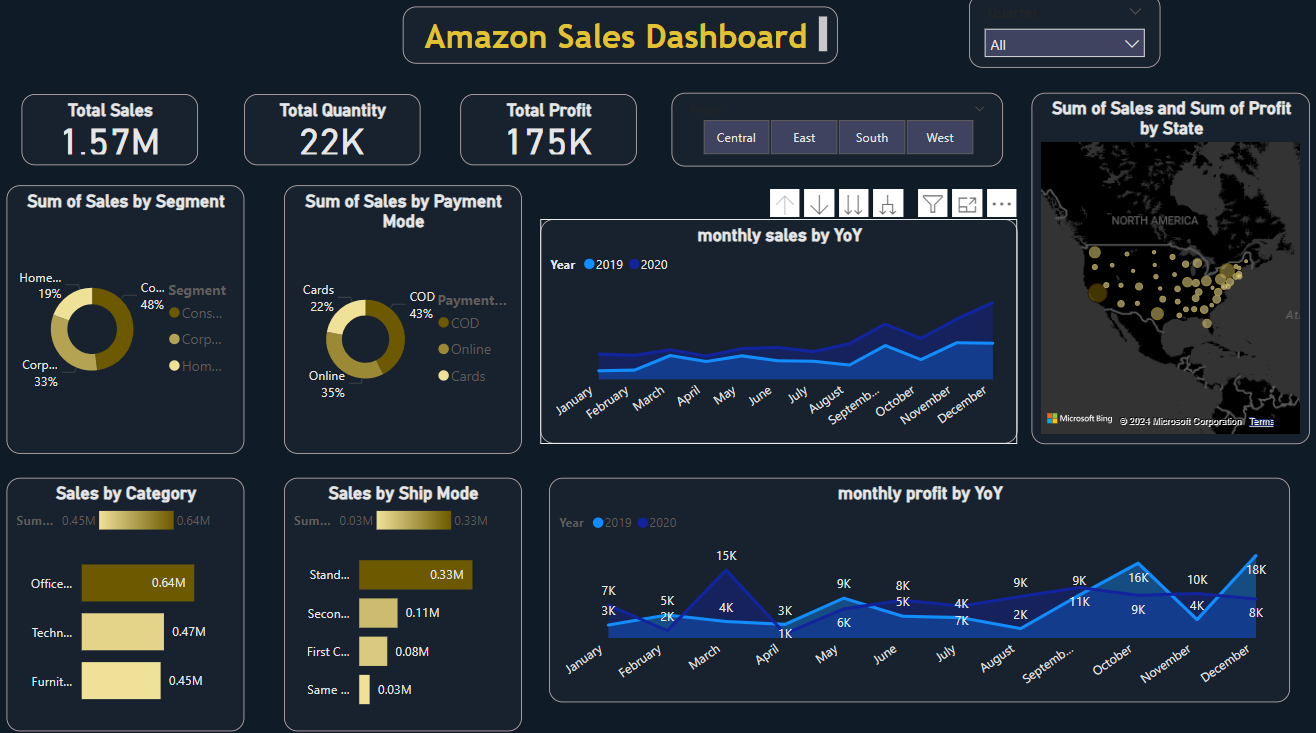

What the dashboard file says about the page in this screenshot:
{"tool":"powerbi","page":{"name":"Page 1","canvas":[1280,720],"ordinal":0},"visuals":[{"type":"clusteredBarChart","title":"Sales by Category","fields":{"Category":["SuperStore_Sales_Dataset (1).Category"],"Y":["Sum(SuperStore_Sales_Dataset (1).Sales)"]},"box":[12.1,466.9,229.2,244.9],"z":0},{"type":"barChart","title":"Sales by Ship Mode","fields":{"Category":["SuperStore_Sales_Dataset (1).Ship Mode"],"Y":["Sum(SuperStore_Sales_Dataset (1).Sales)"]},"box":[279.9,466.9,229.2,244.9],"z":1000},{"type":"areaChart","title":"monthly sales by YoY","fields":{"Y":["Sum(SuperStore_Sales_Dataset (1).Sales)"],"Category":["SuperStore_Sales_Dataset (1).Order Date.Variation.Date Hierarchy.Month","SuperStore_Sales_Dataset (1).Order Date.Variation.Date Hierarchy.Day"],"Series":["SuperStore_Sales_Dataset (1).Order Date.Variation.Date Hierarchy.Year"]},"box":[527.2,217.2,460.9,217.2],"z":2000},{"type":"areaChart","title":"monthly profit by YoY","fields":{"Category":["SuperStore_Sales_Dataset (1).Order Date.Variation.Date Hierarchy.Month","SuperStore_Sales_Dataset (1).Order Date.Variation.Date Hierarchy.Day"],"Series":["SuperStore_Sales_Dataset (1).Order Date.Variation.Date Hierarchy.Year"],"Y":["Sum(SuperStore_Sales_Dataset (1).Profit)"]},"box":[535.7,466.9,715.4,217.2],"z":4000},{"type":"map","fields":{"Category":["SuperStore_Sales_Dataset (1).State"],"Size":["Sum(SuperStore_Sales_Dataset (1).Sales)"]},"box":[1001.3,95.3,269,339],"z":5000},{"type":"donutChart","fields":{"Category":["SuperStore_Sales_Dataset (1).Segment"],"Y":["Sum(SuperStore_Sales_Dataset (1).Sales)"]},"box":[12.1,184.6,229.2,259.4],"z":6000},{"type":"donutChart","fields":{"Y":["Sum(SuperStore_Sales_Dataset (1).Sales)"],"Category":["SuperStore_Sales_Dataset (1).Payment Mode"]},"box":[279.9,184.6,229.2,259.4],"z":7000},{"type":"slicer","fields":{"Values":["SuperStore_Sales_Dataset (1).Region"]},"box":[653.9,95.3,319.7,71.2],"z":8000},{"type":"card","title":"Total Profit ","fields":{"Values":["Sum(SuperStore_Sales_Dataset (1).Profit)"]},"box":[450,96.5,170.1,68.8],"z":9000},{"type":"card","title":"Total Quantity","fields":{"Values":["Sum(SuperStore_Sales_Dataset (1).Quantity)"]},"box":[241.3,96.5,170.1,68.8],"z":10000},{"type":"card","title":"Total Sales","fields":{"Values":["Sum(SuperStore_Sales_Dataset (1).Sales)"]},"box":[26.5,96.5,170.1,68.8],"z":11000},{"type":"slicer","fields":{"Values":["SuperStore_Sales_Dataset (1).Order Date.Variation.Date Hierarchy.Quarter"]},"box":[941,0,184.6,71.2],"z":13000},{"type":"textbox","box":[394.5,12.1,419.8,55.5],"z":14000}]}

Visuals, with their boxes in screenshot pixels (x1, y1, x2, y2), scaled from the page's 1280x720 canvas onto the 1316x733 screenshot:
"Sales by Category" clusteredBarChart: detection(12, 475, 248, 725)
"Sales by Ship Mode" barChart: detection(288, 475, 523, 725)
"monthly sales by YoY" areaChart: detection(542, 221, 1016, 442)
"monthly profit by YoY" areaChart: detection(551, 475, 1286, 696)
map - SuperStore_Sales_Dataset (1).State x Sum(SuperStore_Sales_Dataset (1).Sales): detection(1029, 97, 1306, 442)
donutChart - SuperStore_Sales_Dataset (1).Segment x Sum(SuperStore_Sales_Dataset (1).Sales): detection(12, 188, 248, 452)
donutChart - Sum(SuperStore_Sales_Dataset (1).Sales) x SuperStore_Sales_Dataset (1).Payment Mode: detection(288, 188, 523, 452)
slicer - SuperStore_Sales_Dataset (1).Region: detection(672, 97, 1001, 170)
"Total Profit " card: detection(463, 98, 638, 168)
"Total Quantity" card: detection(248, 98, 423, 168)
"Total Sales" card: detection(27, 98, 202, 168)
slicer - SuperStore_Sales_Dataset (1).Order Date.Variation.Date Hierarchy.Quarter: detection(967, 0, 1157, 72)
textbox: detection(406, 12, 837, 69)
